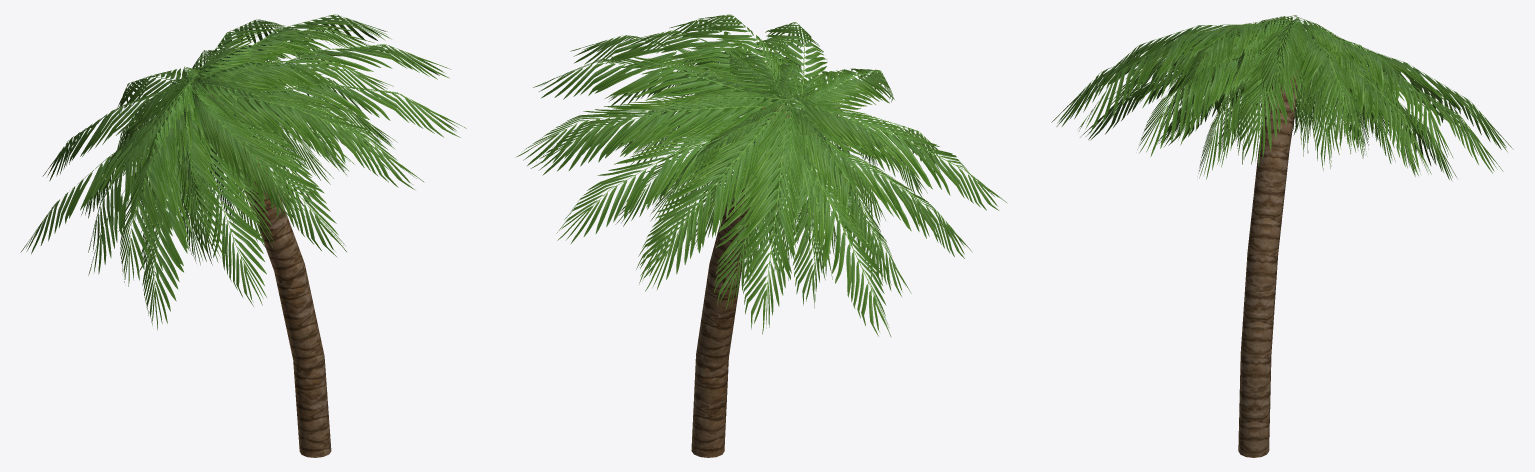
The model's file is Palmboom gebogen.fbx.
The picture shows the model from 3 angles, left to right: view 1: azimuth 30°, elevation 25°; view 2: azimuth 150°, elevation 25°; view 3: azimuth 270°, elevation 25°; orthographic projection. The views are drawn at different scales.
Visible parts, largest first — view 1: Cylinder_4, Plane_10, Plane_7, Plane_3, Plane_49, Plane_12, Plane_5, Plane_42, Plane_41, Plane_4, Plane_48, Plane_8 (+27 smaller); view 2: Cylinder_4, Plane_8, Plane_9, Plane_1, Plane_47, Plane_2_3, Plane_46, Plane_7, Plane_13, Plane_40, Plane_11, Plane_6 (+28 smaller); view 3: Cylinder_4, Plane_48, Plane_41, Plane_10, Plane_2_3, Plane_9, Plane_40, Plane_1, Plane_11, Plane_4, Plane_47, Plane_56 (+16 smaller).
Boxes of the visible parts, <box> form: Cylinder_4: <box>207,93,331,457</box>; Plane_10: <box>187,91,424,189</box>; Plane_7: <box>118,78,203,286</box>; Plane_3: <box>187,95,346,257</box>; Plane_49: <box>189,121,266,306</box>; Plane_12: <box>187,94,305,223</box>; Plane_5: <box>176,95,225,265</box>; Plane_42: <box>139,137,205,330</box>; Plane_41: <box>260,83,466,137</box>; Plane_4: <box>211,60,393,97</box>; Plane_48: <box>244,44,451,91</box>; Plane_8: <box>42,82,203,181</box>; Cylinder_4: <box>691,100,790,457</box>; Plane_8: <box>737,93,806,334</box>; Plane_9: <box>530,91,797,175</box>; Plane_1: <box>639,97,792,291</box>; Plane_47: <box>556,115,777,244</box>; Plane_2_3: <box>533,56,788,115</box>; Plane_46: <box>782,140,891,337</box>; Plane_7: <box>778,97,1006,210</box>; Plane_13: <box>788,103,891,286</box>; Plane_40: <box>515,98,745,165</box>; Plane_11: <box>626,30,788,109</box>; Plane_6: <box>779,113,824,308</box>; Cylinder_4: <box>1238,45,1298,457</box>; Plane_48: <box>1235,54,1307,166</box>; Plane_41: <box>1137,55,1271,156</box>; Plane_10: <box>1078,24,1264,133</box>; Plane_2_3: <box>1284,36,1360,154</box>; Plane_9: <box>1305,29,1453,159</box>; Plane_40: <box>1307,60,1431,175</box>; Plane_1: <box>1308,33,1513,151</box>; Plane_11: <box>1257,24,1316,102</box>; Plane_4: <box>1182,23,1290,95</box>; Plane_47: <box>1322,53,1503,173</box>; Plane_56: <box>1198,73,1274,179</box>.
Size of the model in its own units: 1014 by 1037 by 1088.
Materials: 61 (61 with a texture image).
